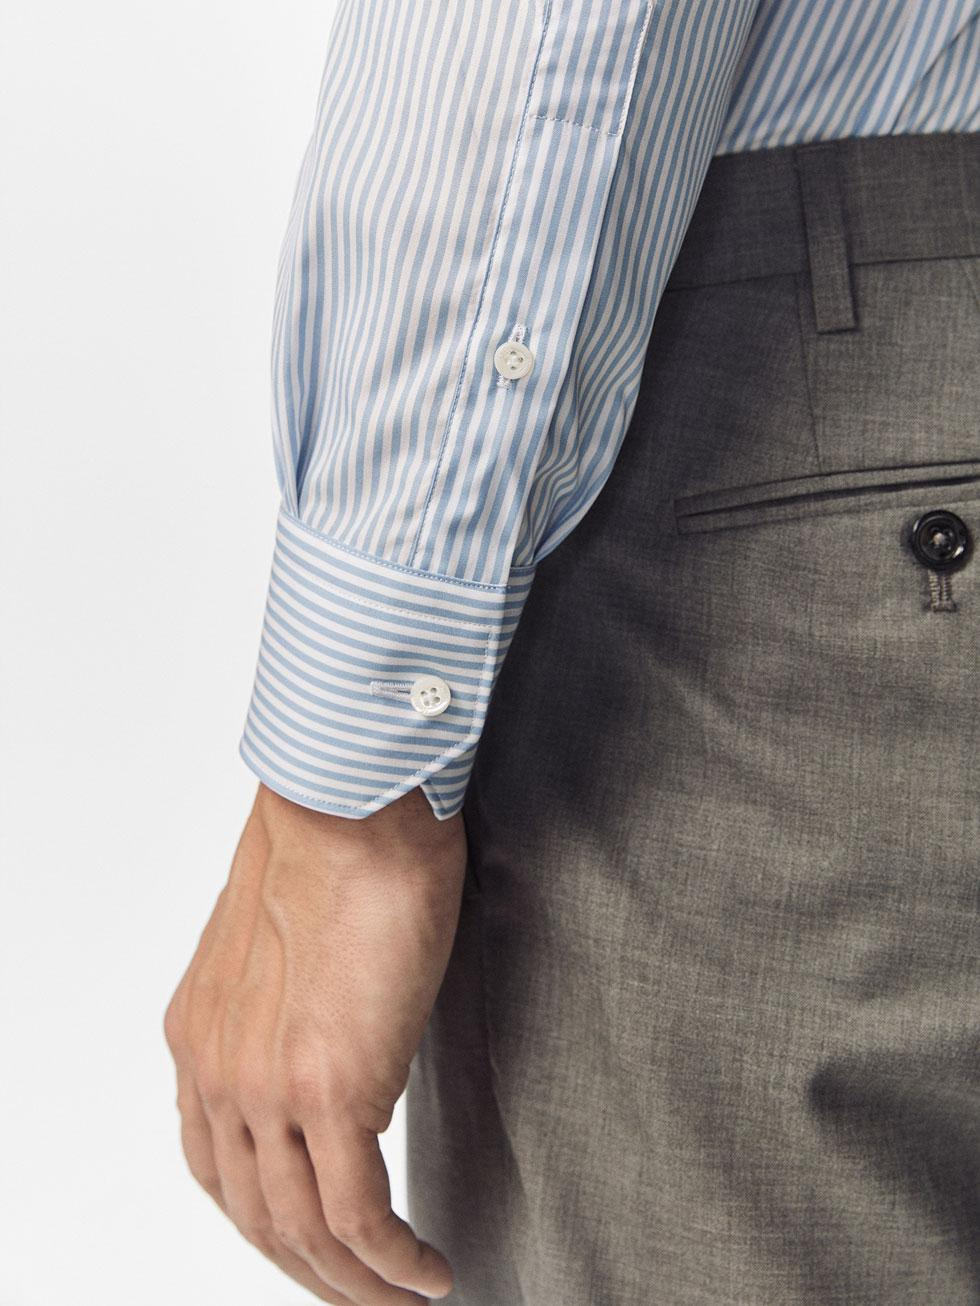teeshirt: (201, 7, 980, 795)
